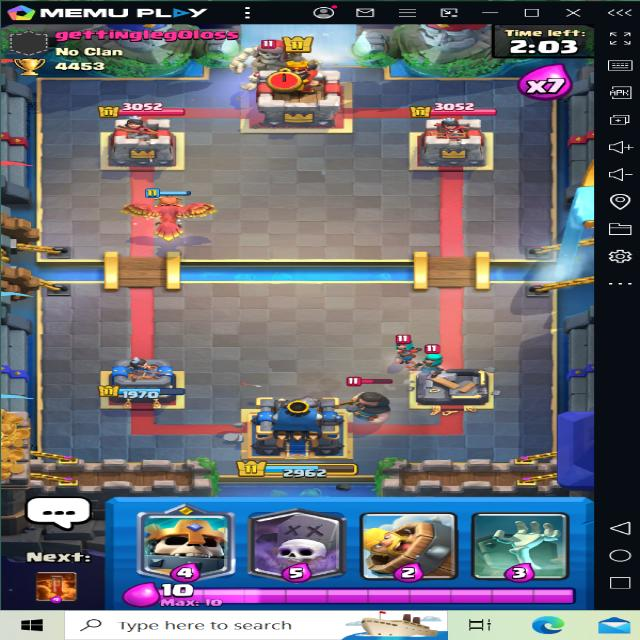giant-skeleton: (226, 33, 308, 84)
rascal-boy: (344, 374, 403, 420)
rascal-girl: (385, 336, 427, 366), (416, 343, 454, 373)
